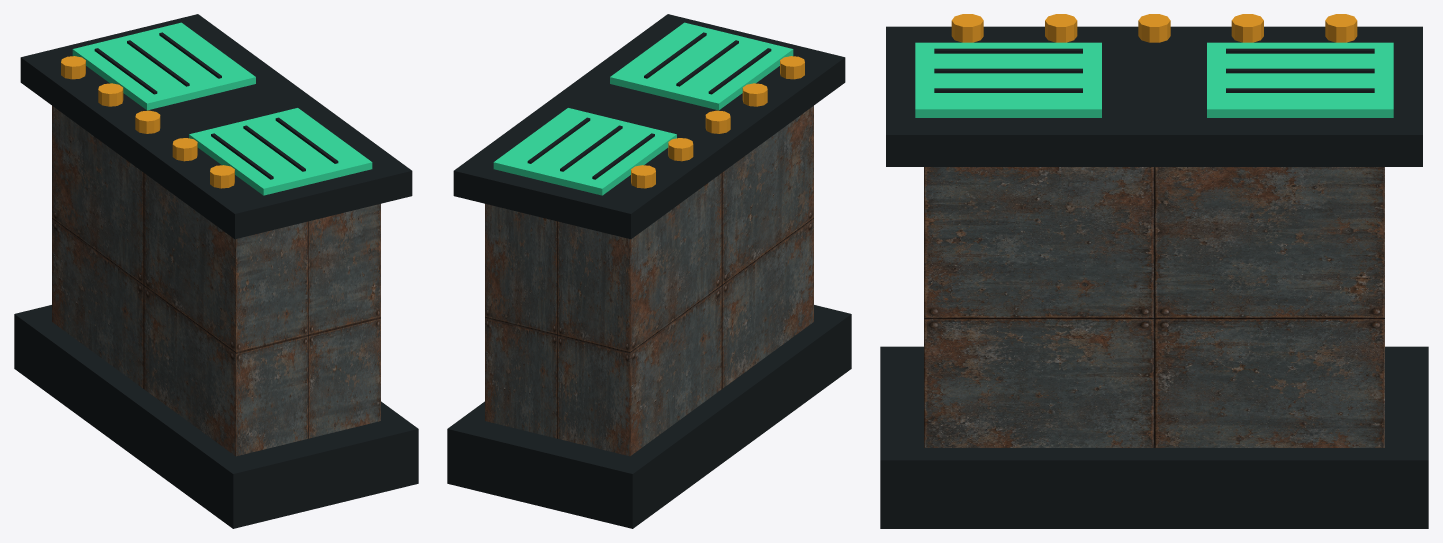
File: ControlConsole.obj
3 views of the same model, side by side, from view 1: azimuth 30°, elevation 25°; view 2: azimuth 150°, elevation 25°; view 3: azimuth 270°, elevation 25° (orthographic). The views are drawn at different scales.
Visible parts, largest first — view 1: ControlConsole; view 2: ControlConsole; view 3: ControlConsole.
Boxes of the visible parts, <box> form: ControlConsole: <box>14,14,418,528</box>; ControlConsole: <box>447,14,851,528</box>; ControlConsole: <box>880,14,1428,528</box>.
Size of the model in its own units: 0.92 by 1.55 by 1.88.
Materials: 4 (1 with a texture image).
